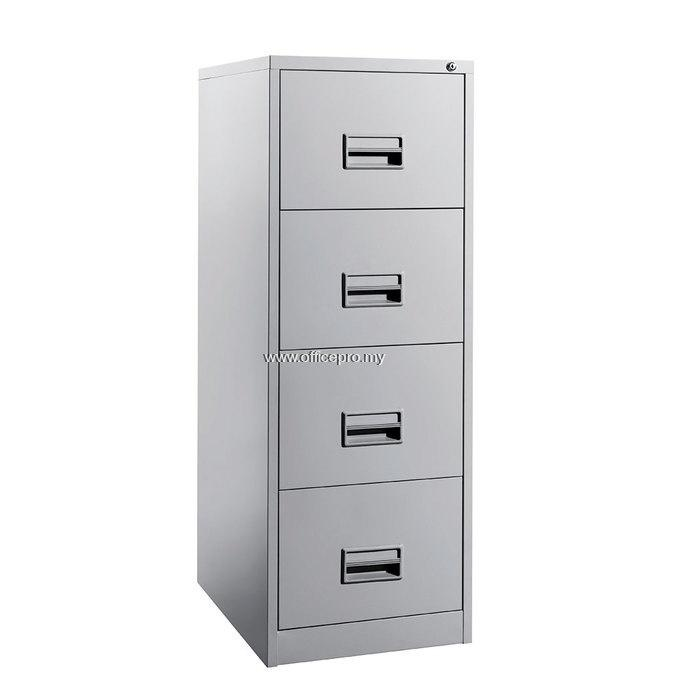cabinet_door: (281, 209, 464, 349), (277, 75, 460, 210), (279, 349, 464, 482), (285, 480, 467, 614)
handle: (344, 414, 402, 447), (343, 273, 400, 303), (349, 139, 402, 168), (346, 556, 402, 580)
